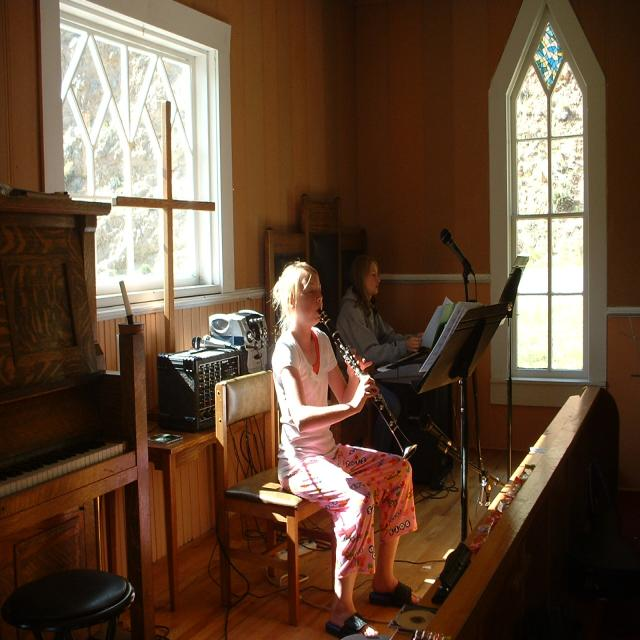clarinet: (316, 306, 420, 466)
